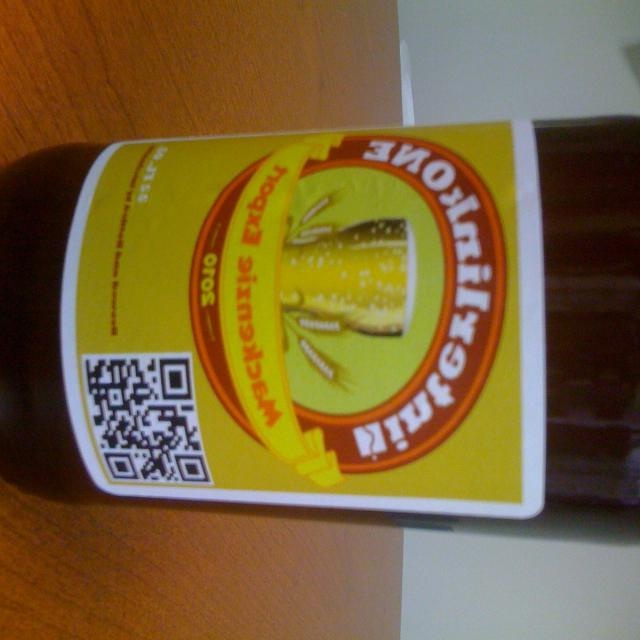qr-code: (86, 358, 210, 481)
